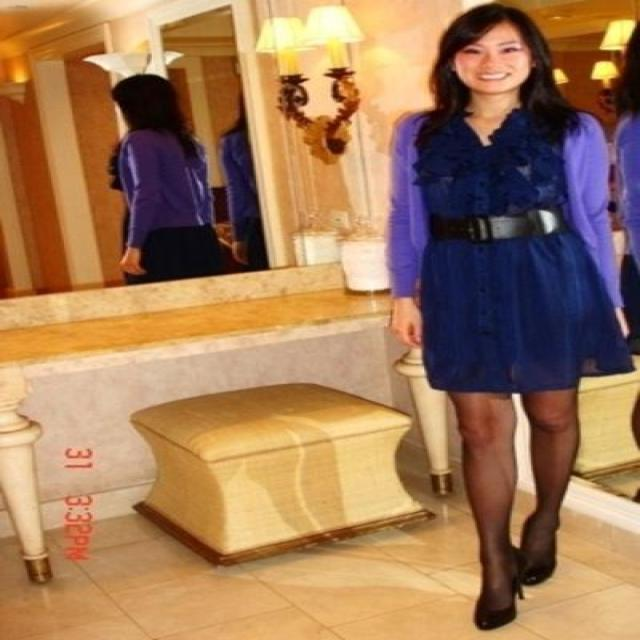dress: (413, 117, 632, 396)
jacket: (387, 115, 624, 319)
shoe: (474, 559, 552, 629)
